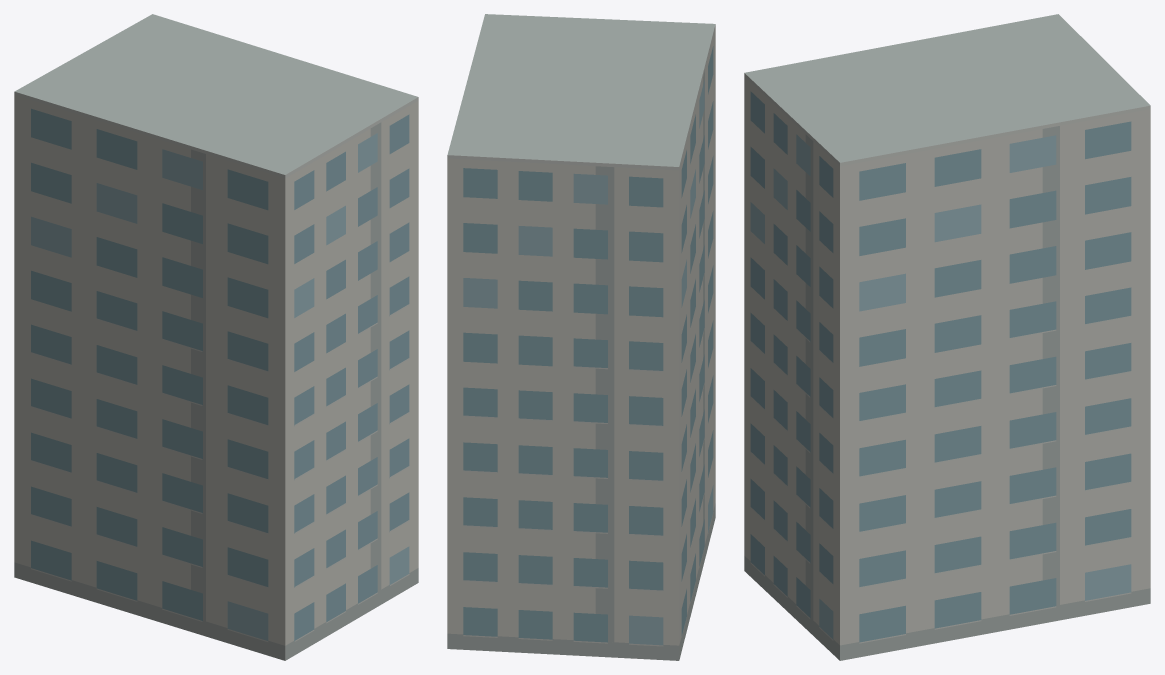
Rendered from residential-94eee602-a263-4035-9205-3ee36fa59630.glb.
3 views of the same model, side by side, from view 1: azimuth 30°, elevation 25°; view 2: azimuth 150°, elevation 25°; view 3: azimuth 270°, elevation 25° (orthographic). The views are drawn at different scales.
Visible parts, largest first — view 1: residential-94eee602-a263-4035-9205-3ee36fa59630.tmp; view 2: residential-94eee602-a263-4035-9205-3ee36fa59630.tmp; view 3: residential-94eee602-a263-4035-9205-3ee36fa59630.tmp.
Boxes of the visible parts, x1,y1,x2,y2 form: residential-94eee602-a263-4035-9205-3ee36fa59630.tmp: [14, 14, 418, 660]; residential-94eee602-a263-4035-9205-3ee36fa59630.tmp: [447, 14, 715, 660]; residential-94eee602-a263-4035-9205-3ee36fa59630.tmp: [744, 14, 1150, 660].
Bounding box in the file's own units: 22.44 × 35 × 25.89.
